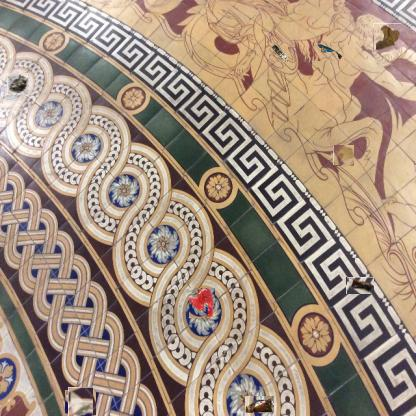dirty: (373, 23, 401, 52), (66, 388, 94, 416), (246, 396, 276, 416), (314, 43, 344, 61), (346, 277, 374, 294), (7, 74, 29, 95), (268, 42, 288, 62)
liquid: (189, 288, 215, 318), (334, 145, 354, 166)
